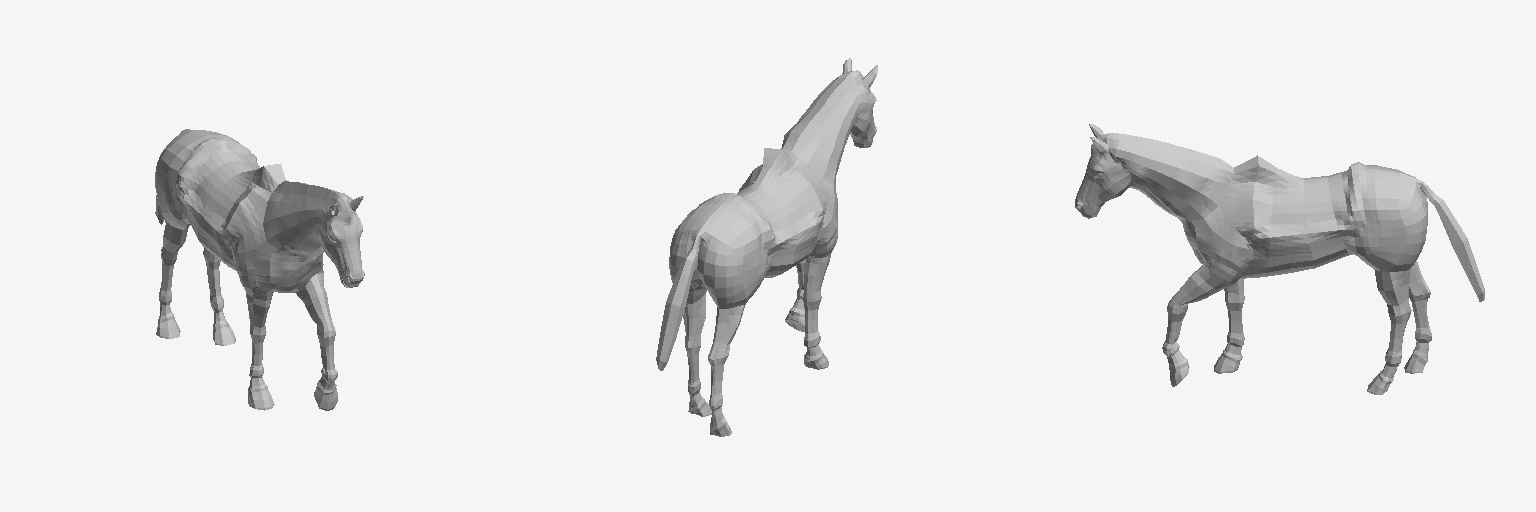
The model's file is Horse Animation Normal Walk_000000.obj.
3 views of the same model, side by side, from view 1: azimuth 30°, elevation 25°; view 2: azimuth 150°, elevation 25°; view 3: azimuth 270°, elevation 25° (orthographic).
Visible parts, largest first — view 1: Horse_0; view 2: Horse_0; view 3: Horse_0.
Part boxes in pixels (x1,y1,x2,y2): Horse_0: (155,129,364,410); Horse_0: (656,58,877,436); Horse_0: (1075,124,1484,394).
Bounding box in the file's own units: 1.26 × 3.43 × 5.08.